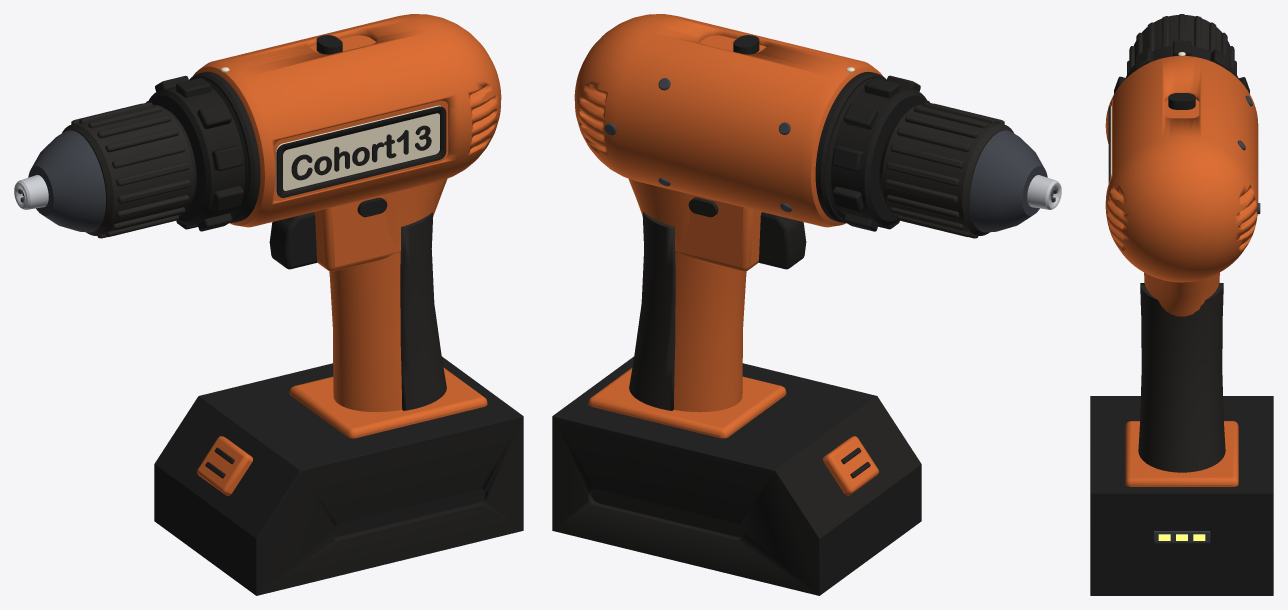
Rendered from drill.glb.
3 renders of one model, left to right at view 1: azimuth 30°, elevation 25°; view 2: azimuth 150°, elevation 25°; view 3: azimuth 270°, elevation 25°, orthographic. The views are drawn at different scales.
Parts seen in each view (by area): view 1: collar, barrel, sleeve, plate, nose, frame, tip; view 2: collar, barrel, sleeve, nose, tip; view 3: barrel, collar, sleeve, nose, led.
Boxes of the visible parts, x1,y1,x2,y2 form: collar: [146, 35, 523, 595]; barrel: [193, 14, 501, 495]; sleeve: [62, 102, 446, 410]; plate: [221, 67, 441, 194]; nose: [18, 130, 105, 232]; frame: [276, 106, 446, 197]; tip: [14, 175, 48, 209]; collar: [552, 35, 929, 595]; barrel: [574, 14, 882, 495]; sleeve: [629, 102, 1013, 410]; nose: [605, 78, 1057, 232]; tip: [1027, 175, 1061, 209]; barrel: [1105, 56, 1258, 486]; collar: [1090, 41, 1273, 595]; sleeve: [1127, 14, 1236, 472]; nose: [1153, 95, 1260, 543]; led: [1158, 534, 1205, 540].
Bounding box in the file's own units: 0.2225 × 0.2222 × 0.084.
